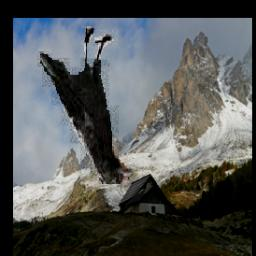Crow: (37, 27, 135, 185)
